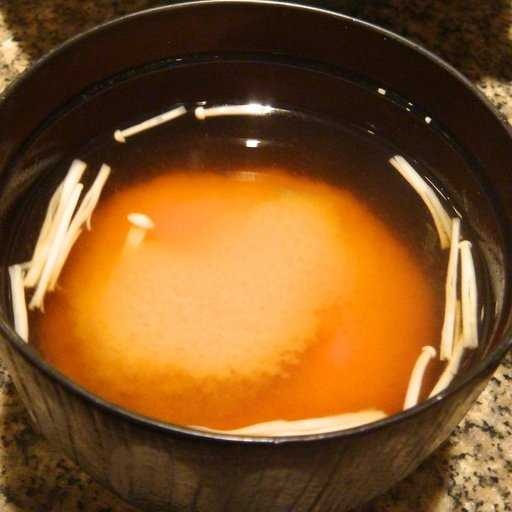soup: (8, 63, 475, 447)
